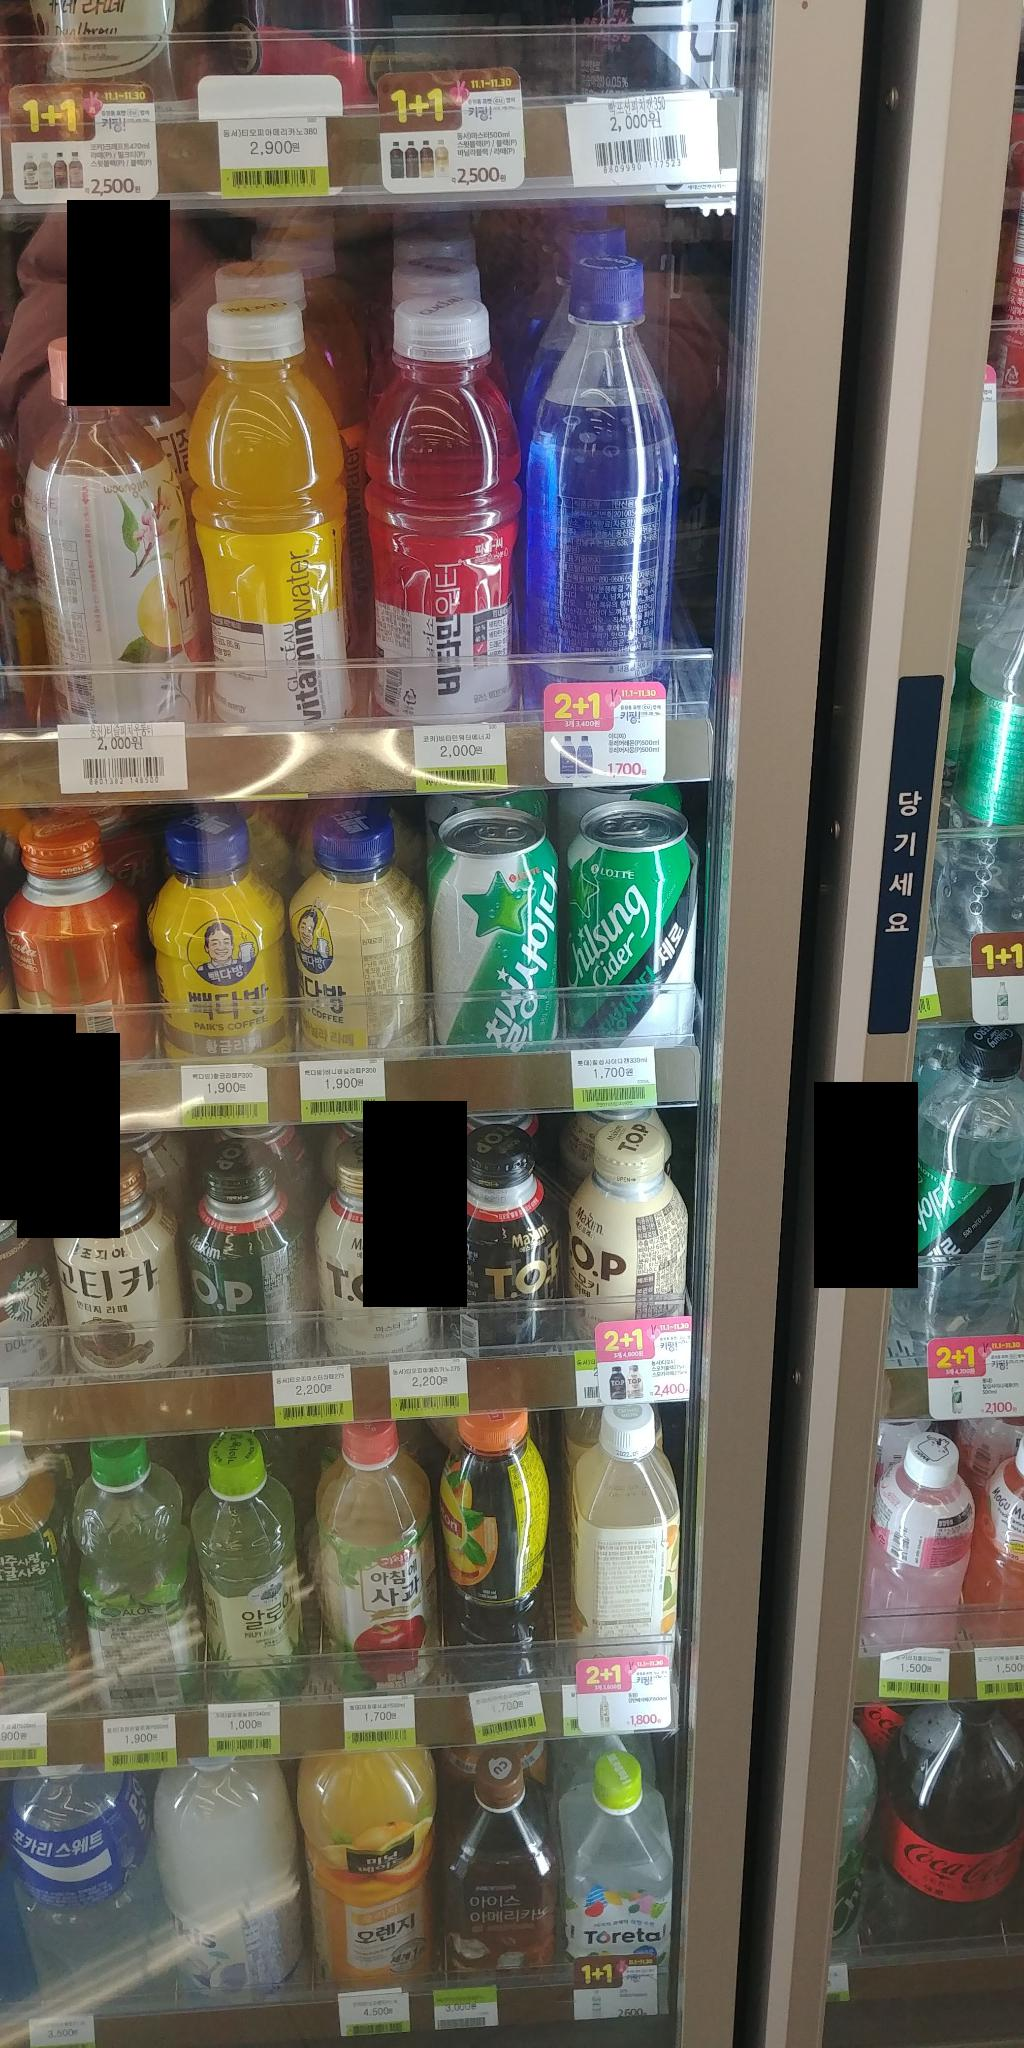TOP_black: (426, 1109, 568, 1382)
chilsungcider: (417, 798, 571, 1061)
